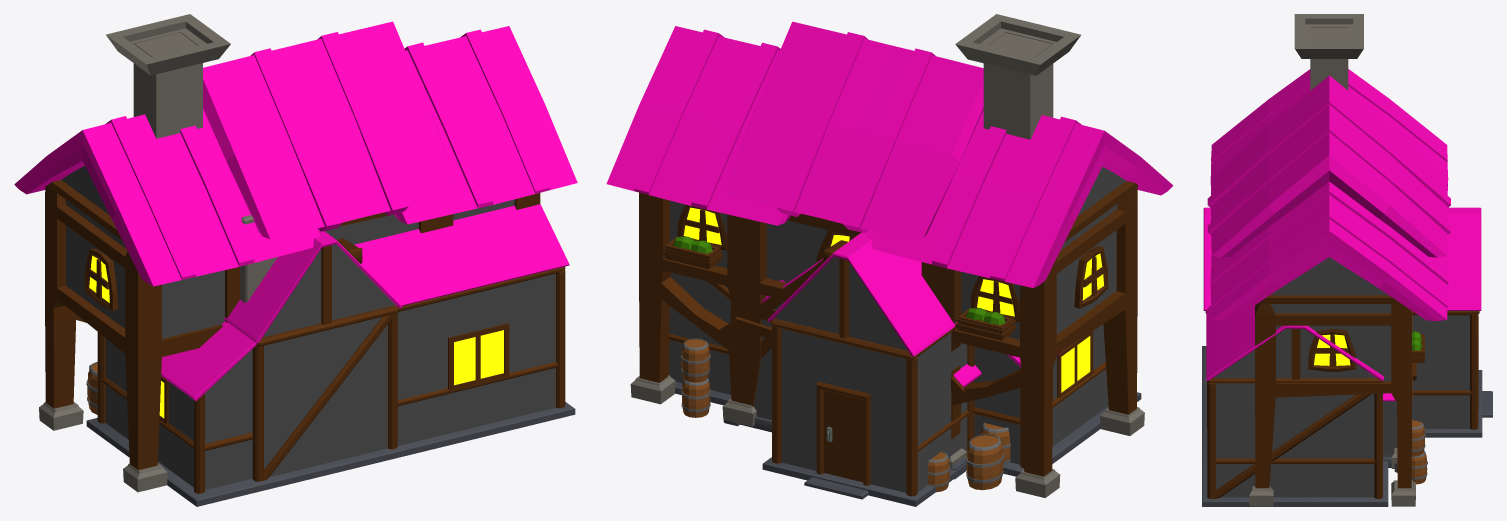
Rendered from TexturasCasas_Vila.fbx.
3 views of the same model, side by side, from view 1: azimuth 30°, elevation 25°; view 2: azimuth 150°, elevation 25°; view 3: azimuth 270°, elevation 25° (orthographic). The views are drawn at different scales.
Parts seen in each view (by area): view 1: Telhado, Paredes_CasaCruzada, Telhado_CasaCruzada, Pilar, EstruturaMadeira_CasaCruzada, Chaminé, Andar Superior, BasePedra_CasaCruzada, VidroJanela_CasaCruzada, BasePilar, JanelasEPorta_CasaCruzada, Janela (+1 smaller); view 2: Telhado, Pilar, Paredes_CasaCruzada, Chaminé, Andar Superior, EstruturaMadeira_CasaCruzada, Telhado_CasaCruzada, JanelasEPorta_CasaCruzada, Barril, BasePedra_CasaCruzada, BasePilar, Janela (+6 smaller); view 3: Telhado, Paredes_CasaCruzada, Pilar, Telhado_CasaCruzada, EstruturaMadeira_CasaCruzada, Andar Superior, Chaminé, BasePedra_CasaCruzada, BasePilar, Janela, Barril, Paredes_CasaQuadrada (+1 smaller).
Part boxes in pixels (<box>): Telhado: <box>14,21,577,286</box>; Paredes_CasaCruzada: <box>105,244,555,489</box>; Telhado_CasaCruzada: <box>161,204,569,400</box>; Pilar: <box>45,180,540,470</box>; EstruturaMadeira_CasaCruzada: <box>97,245,565,493</box>; Chaminé: <box>106,14,230,138</box>; Andar Superior: <box>61,166,514,338</box>; BasePedra_CasaCruzada: <box>86,365,575,506</box>; VidroJanela_CasaCruzada: <box>159,330,503,418</box>; BasePilar: <box>39,402,167,492</box>; JanelasEPorta_CasaCruzada: <box>159,323,509,423</box>; Janela: <box>84,248,118,310</box>; Telhado: <box>606,21,1173,288</box>; Pilar: <box>639,181,1137,476</box>; Paredes_CasaCruzada: <box>669,257,1108,492</box>; Chaminé: <box>955,14,1080,139</box>; Andar Superior: <box>670,167,1125,339</box>; EstruturaMadeira_CasaCruzada: <box>668,258,1106,496</box>; Telhado_CasaCruzada: <box>767,230,1066,367</box>; JanelasEPorta_CasaCruzada: <box>816,331,1093,485</box>; Barril: <box>680,338,1010,492</box>; BasePedra_CasaCruzada: <box>675,381,1141,506</box>; BasePilar: <box>630,375,1144,497</box>; Janela: <box>677,204,1108,321</box>; Telhado: <box>1207,69,1450,320</box>; Paredes_CasaCruzada: <box>1213,315,1469,497</box>; Pilar: <box>1255,295,1411,488</box>; Telhado_CasaCruzada: <box>1203,207,1481,380</box>; EstruturaMadeira_CasaCruzada: <box>1205,311,1479,498</box>; Andar Superior: <box>1259,257,1391,381</box>; Chaminé: <box>1294,14,1363,90</box>; BasePedra_CasaCruzada: <box>1202,346,1492,506</box>; BasePilar: <box>1249,448,1415,506</box>; Janela: <box>1308,329,1355,371</box>; Barril: <box>1411,419,1427,484</box>; Paredes_CasaQuadrada: <box>1383,401,1397,456</box>.
Bounding box in the file's own units: 1053 × 953 × 735.
